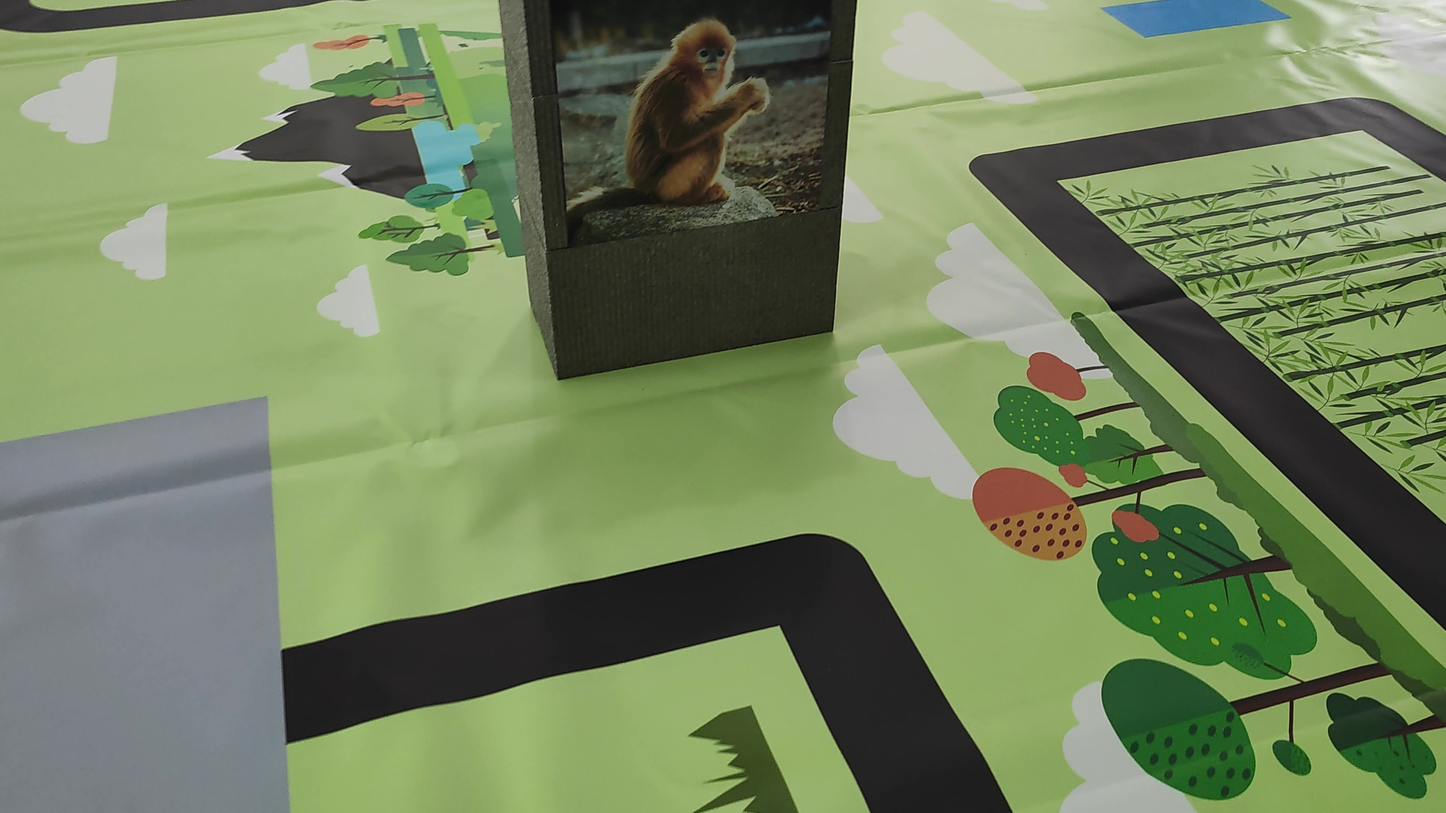monkey: (571, 13, 801, 231)
